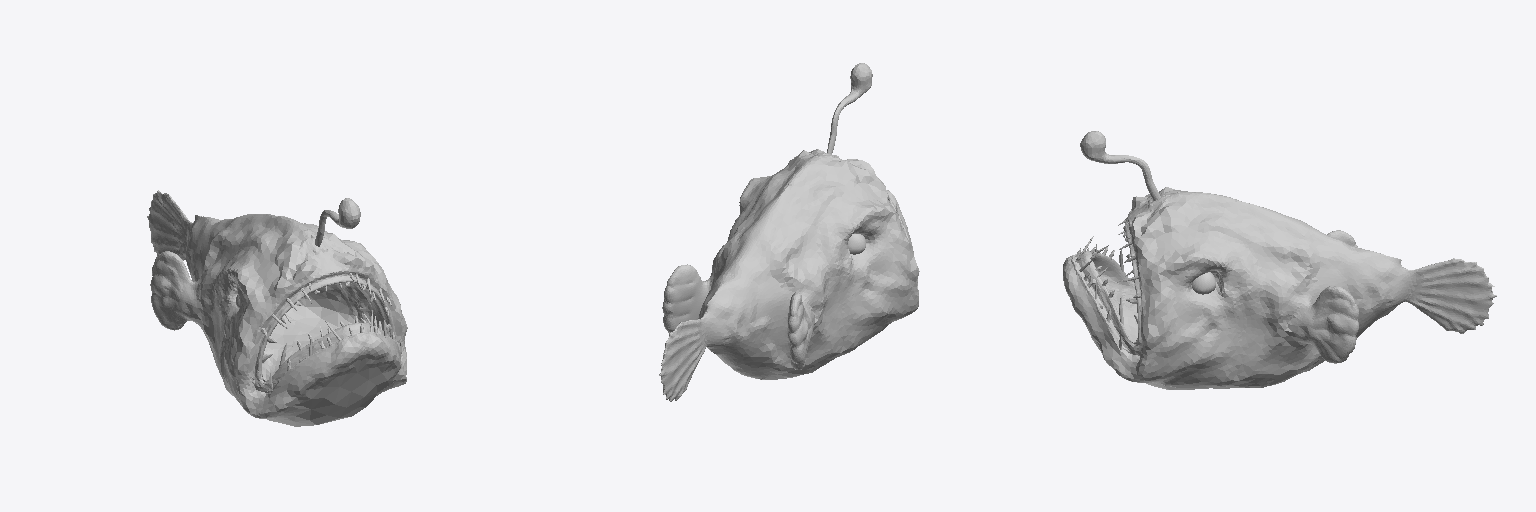
Rendered from Anglerfish.obj.
3 views of the same model, side by side, from view 1: azimuth 30°, elevation 25°; view 2: azimuth 150°, elevation 25°; view 3: azimuth 270°, elevation 25° (orthographic).
Size of the model in its own units: 0.3338 by 0.4681 by 0.7401.